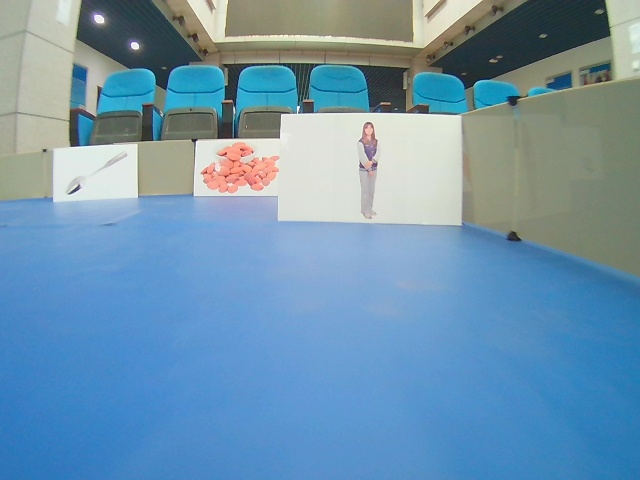dish: (52, 145, 138, 205), (193, 139, 280, 198)
person: (281, 114, 465, 229)
